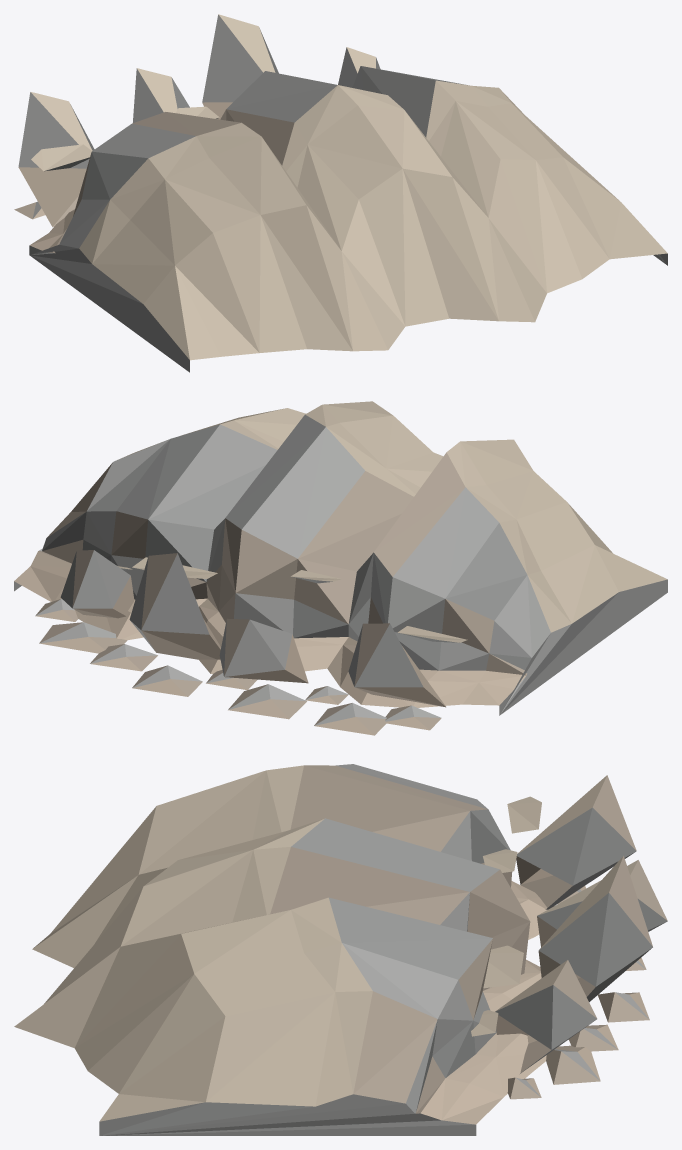
File: V2A5_Cliff.fbx
The picture shows the model from 3 angles, top to bottom: view 1: azimuth 30°, elevation 25°; view 2: azimuth 150°, elevation 25°; view 3: azimuth 270°, elevation 25°; orthographic projection. The views are drawn at different scales.
Parts seen in each view (by area): view 1: V2A5_Cliff; view 2: V2A5_Cliff; view 3: V2A5_Cliff.
Boxes of the visible parts, x1,y1,x2,y2 form: V2A5_Cliff: [14, 14, 667, 372]; V2A5_Cliff: [14, 401, 667, 735]; V2A5_Cliff: [14, 764, 667, 1135].
Bounding box in the file's own units: 38220 × 12700 × 39900.
